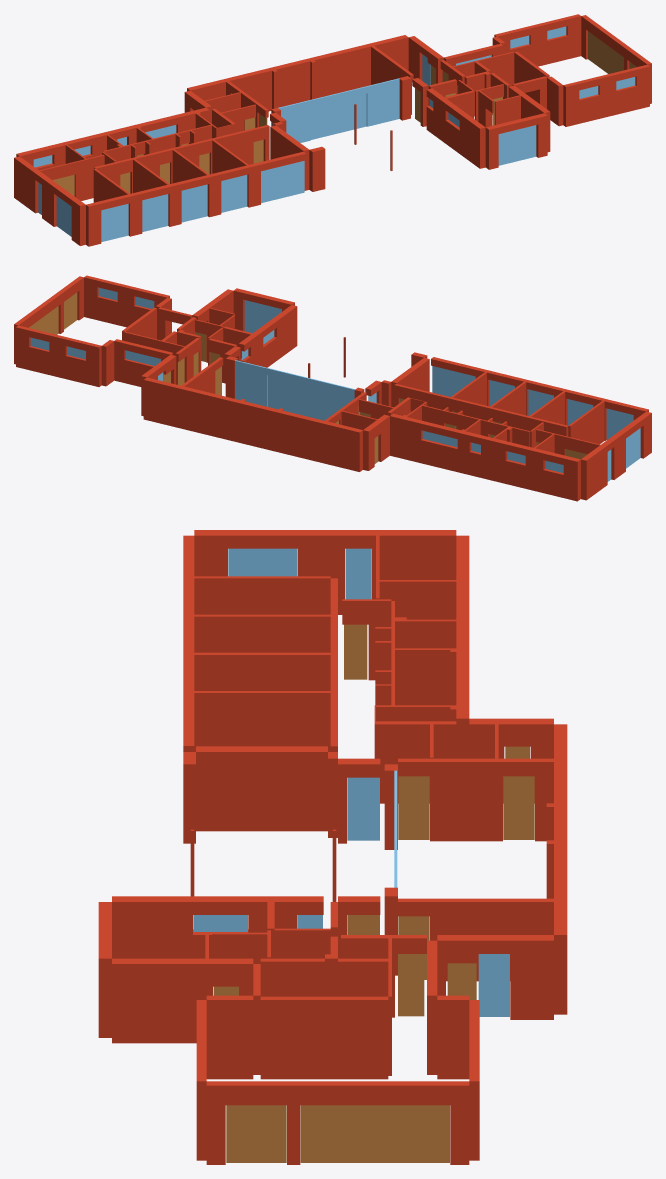
The model's file is ground_floor.glb.
3 views of the same model, one above another, from view 1: azimuth 30°, elevation 25°; view 2: azimuth 150°, elevation 25°; view 3: azimuth 270°, elevation 25° (orthographic). The views are drawn at different scales.
Parts seen in each view (by area): view 1: masonry (×36), glazing (×9), door; view 2: masonry (×34), glazing (×9), door (×2); view 3: masonry (×41), door (×7), glazing (×5).
Boxes of the visible parts, left/top/right/bottom form: masonry (×36): left=14, top=14, right=651, bottom=246; glazing (×9): left=56, top=78, right=536, bottom=241; door: left=588, top=31, right=623, bottom=73; masonry (×34): left=14, top=275, right=651, bottom=501; glazing (×9): left=235, top=300, right=640, bottom=468; door (×2): left=29, top=292, right=77, bottom=334; masonry (×41): left=98, top=530, right=567, bottom=1164; door (×7): left=226, top=624, right=534, bottom=1162; glazing (×5): left=193, top=548, right=509, bottom=1016.
Size of the model in its own units: 45.05 by 3 by 16.05.
